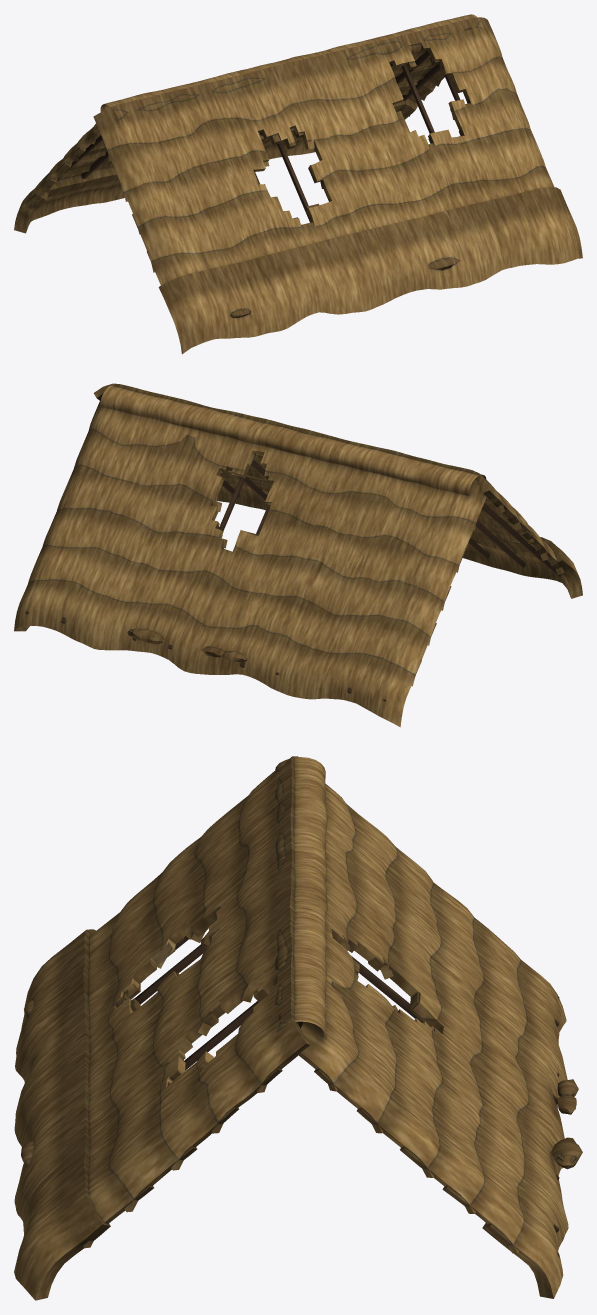
Rendered from home_ext_roof_broken.glb.
3 views of the same model, one above another, from view 1: azimuth 30°, elevation 25°; view 2: azimuth 150°, elevation 25°; view 3: azimuth 270°, elevation 25° (orthographic). The views are drawn at different scales.
Parts seen in each view (by area): view 1: home_ext_roof_broken; view 2: home_ext_roof_broken; view 3: home_ext_roof_broken.
Part boxes in pixels (x1,y1,x2,y2): home_ext_roof_broken: (14,14,582,354); home_ext_roof_broken: (14,383,582,727); home_ext_roof_broken: (14,756,582,1300).
Bounding box in the file's own units: 11.06 × 4.98 × 9.17.
Materials: 2 (2 with a texture image).
